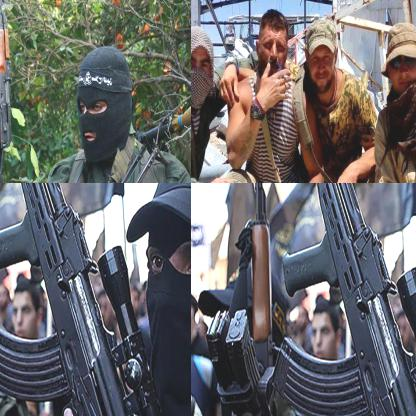rifle: (0, 183, 184, 415), (270, 183, 415, 415), (208, 183, 275, 415), (0, 0, 18, 149)
